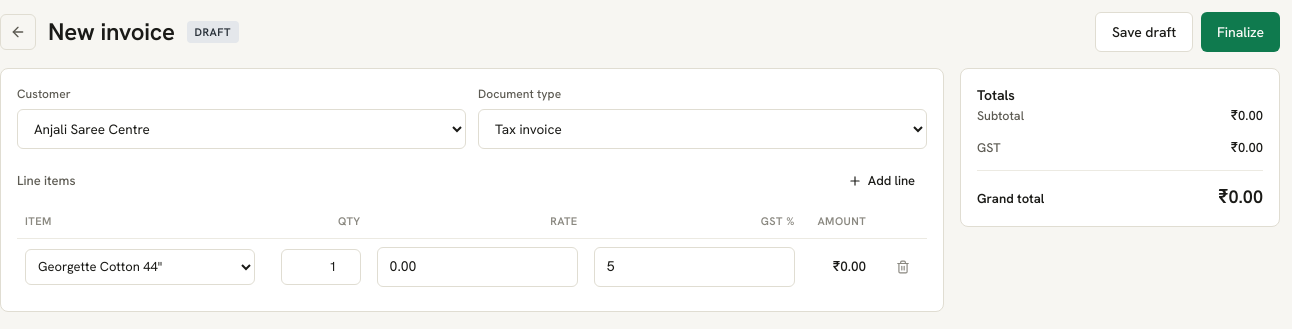
Test case: Invoice flow: Create -> Finalize -> Detail › finalizes a new invoice and shows FINALIZED status on the detail page
expect the button "Save draft" is enabled: met, box [1095,12,1193,52]
Click the button "Finalize".
click(1240, 32)  # box [1201,12,1280,52]
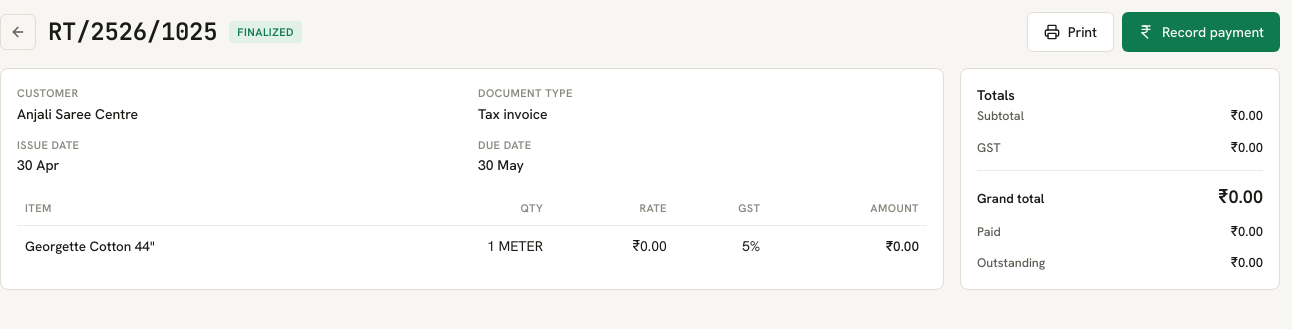
expect the heading "RT/2526/1025" is shown: met, box [48,14,217,50]
expect the text "Finalized" is shown: met, box [229,21,302,43]
